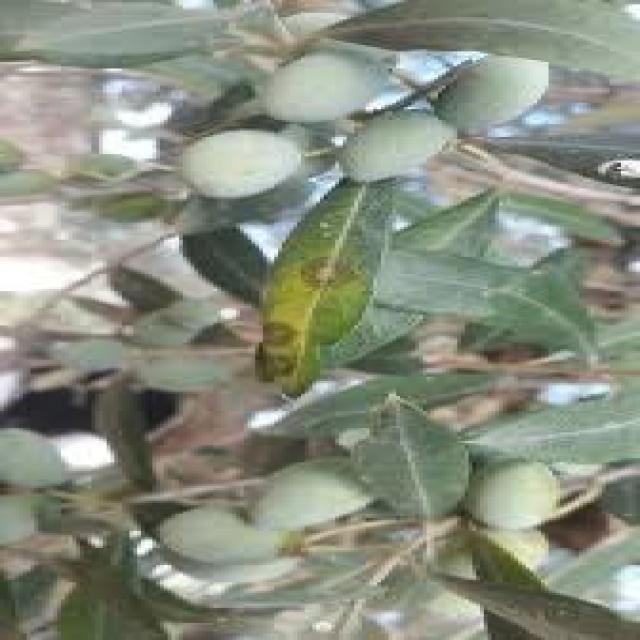OlivePeacockSpot: (259, 178, 373, 394)
